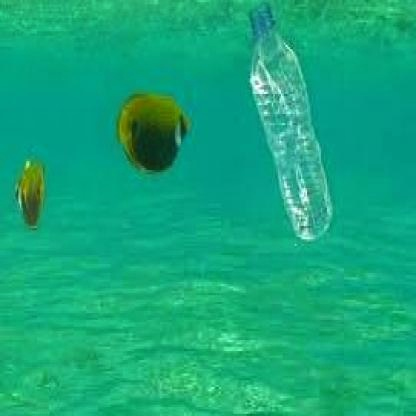pbottle: (243, 2, 339, 246)
